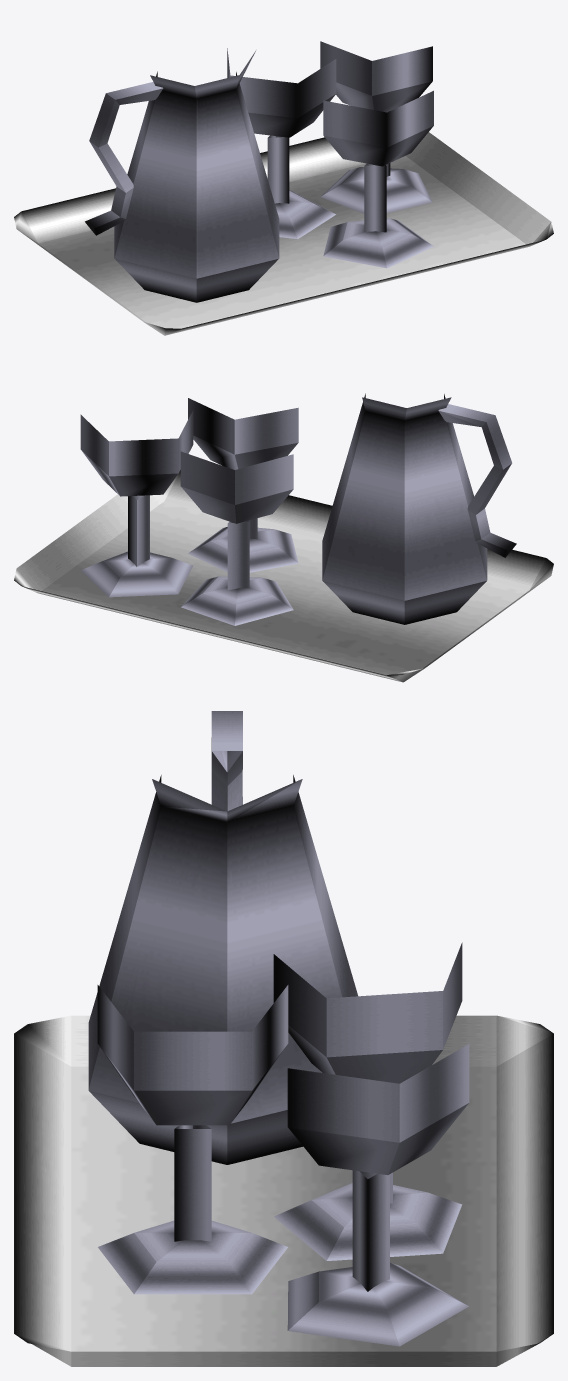
Rendered from Zinngeschirr_1702.glb.
The picture shows the model from 3 angles, top to bottom: view 1: azimuth 30°, elevation 25°; view 2: azimuth 150°, elevation 25°; view 3: azimuth 270°, elevation 25°; orthographic projection. The views are drawn at different scales.
Visible parts, largest first — view 1: pPlaneShape1, pSphereShape1, pSphereShape4, pSphereShape8, pSphereShape6, pSphereShape5, pCylinderShape1, pSphereShape9, pSphereShape7, pCylinderShape3, pCylinderShape4; view 2: pPlaneShape1, pSphereShape1, pSphereShape6, pSphereShape8, pSphereShape4, pSphereShape7, pSphereShape9, pCylinderShape1, pSphereShape5, pCylinderShape4, pCylinderShape5; view 3: pPlaneShape1, pSphereShape1, pSphereShape8, pSphereShape4, pSphereShape6, pSphereShape9, pSphereShape5, pSphereShape7, pCylinderShape3, pCylinderShape5, pCylinderShape1.
Part boxes in pixels (<box>): pPlaneShape1: <box>14,132,553,335</box>; pSphereShape1: <box>114,51,279,302</box>; pSphereShape4: <box>323,90,433,166</box>; pSphereShape8: <box>320,41,432,111</box>; pSphereShape6: <box>227,48,336,137</box>; pSphereShape5: <box>323,218,433,268</box>; pCylinderShape1: <box>85,82,163,235</box>; pSphereShape9: <box>321,167,432,213</box>; pSphereShape7: <box>275,190,335,239</box>; pCylinderShape3: <box>364,163,386,232</box>; pCylinderShape4: <box>267,135,289,203</box>; pPlaneShape1: <box>14,470,553,682</box>; pSphereShape1: <box>322,393,487,624</box>; pSphereShape6: <box>180,451,293,523</box>; pSphereShape8: <box>80,410,193,496</box>; pSphereShape4: <box>188,398,298,469</box>; pSphereShape7: <box>181,576,293,625</box>; pSphereShape9: <box>81,551,193,597</box>; pCylinderShape1: <box>438,404,516,557</box>; pSphereShape5: <box>188,527,298,572</box>; pCylinderShape4: <box>227,521,249,589</box>; pCylinderShape5: <box>128,495,149,566</box>; pPlaneShape1: <box>14,1015,553,1366</box>; pSphereShape1: <box>88,775,357,1164</box>; pSphereShape8: <box>287,1044,469,1174</box>; pSphereShape4: <box>97,985,288,1125</box>; pSphereShape6: <box>273,942,462,1083</box>; pSphereShape9: <box>287,1262,468,1346</box>; pSphereShape5: <box>98,1220,287,1294</box>; pSphereShape7: <box>274,1183,462,1260</box>; pCylinderShape3: <box>174,1125,211,1241</box>; pCylinderShape5: <box>352,1170,389,1291</box>; pCylinderShape1: <box>211,711,242,811</box>.
Size of the model in its own units: 0.1102 by 0.0554 by 0.0735.
12 materials, 12 textured.
